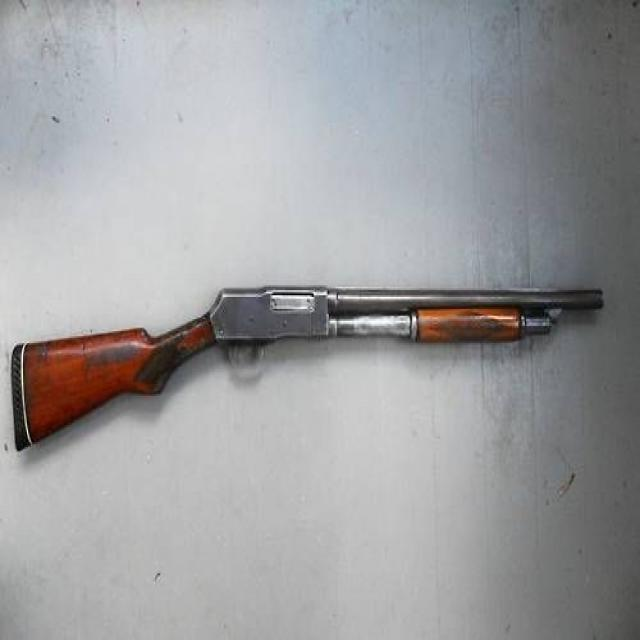shotgun: (13, 266, 607, 467)
